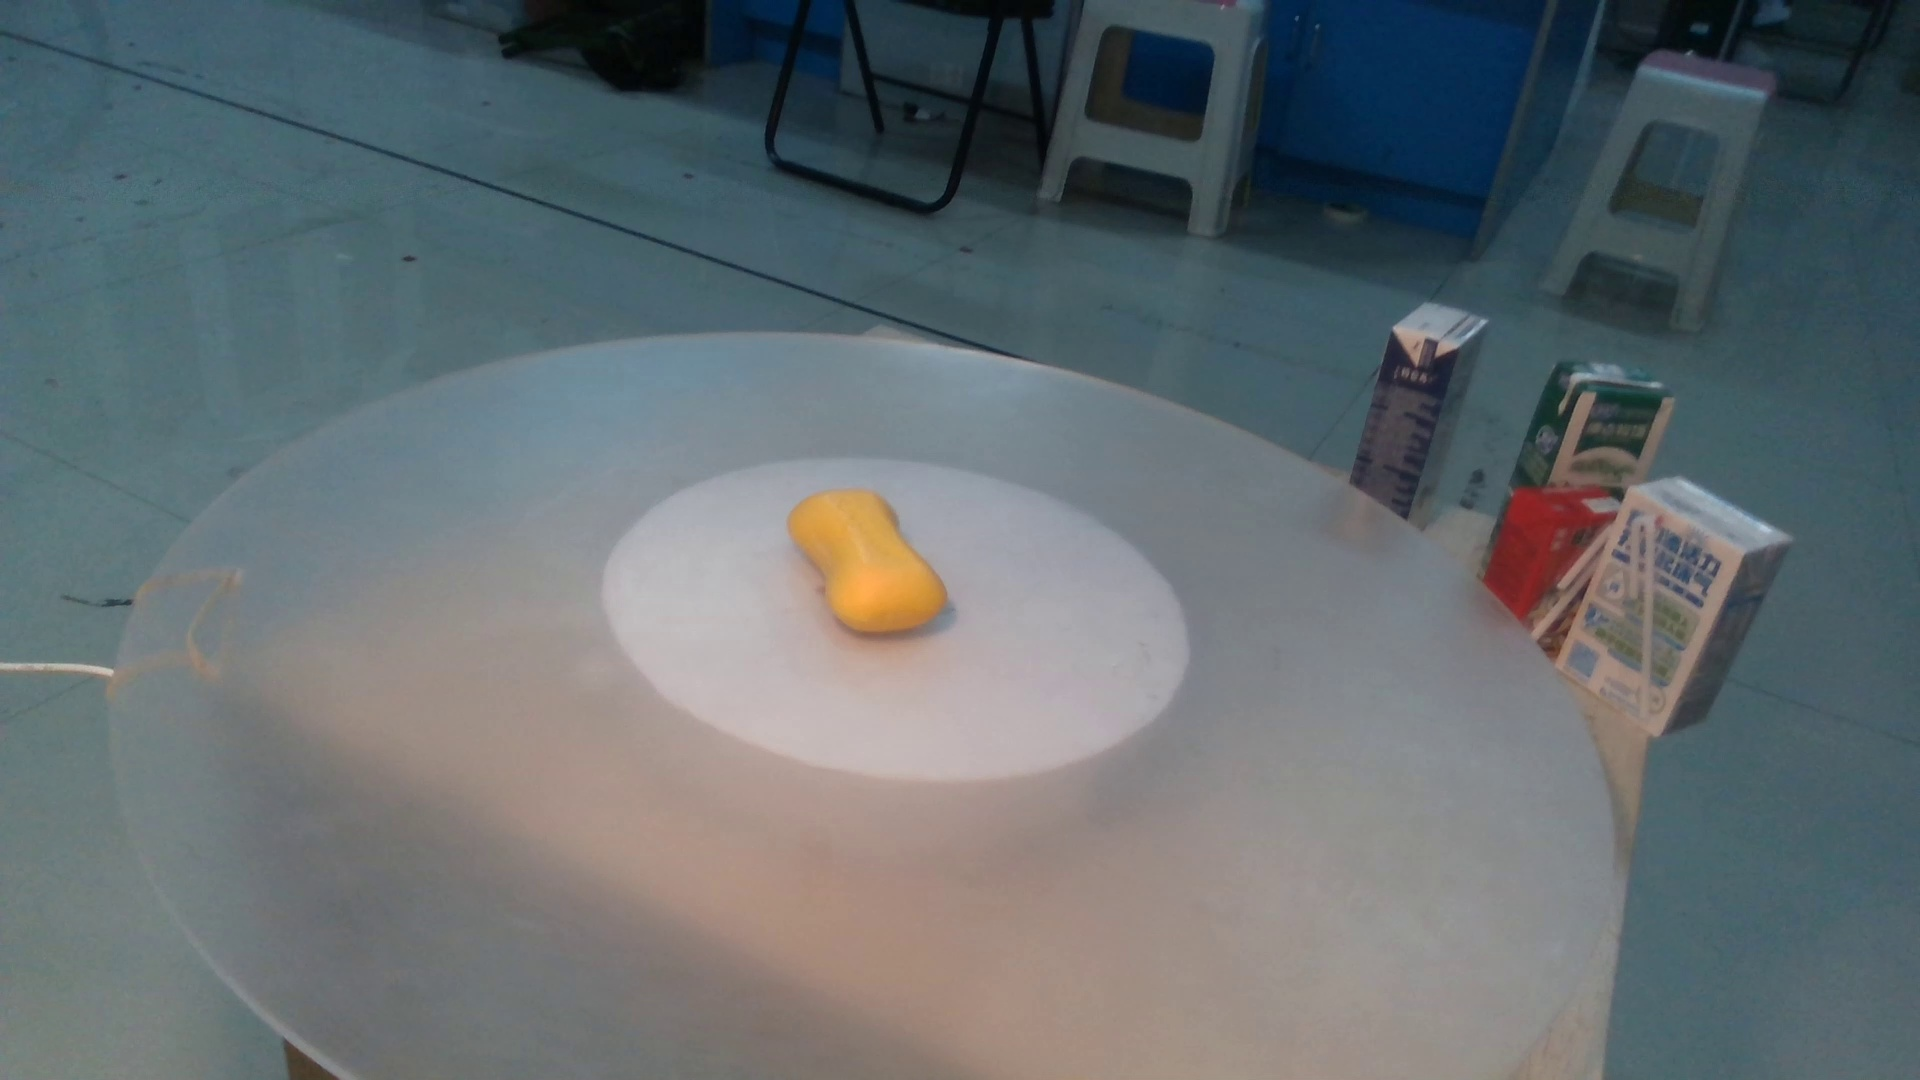CA003_1: (769, 462, 955, 657)
